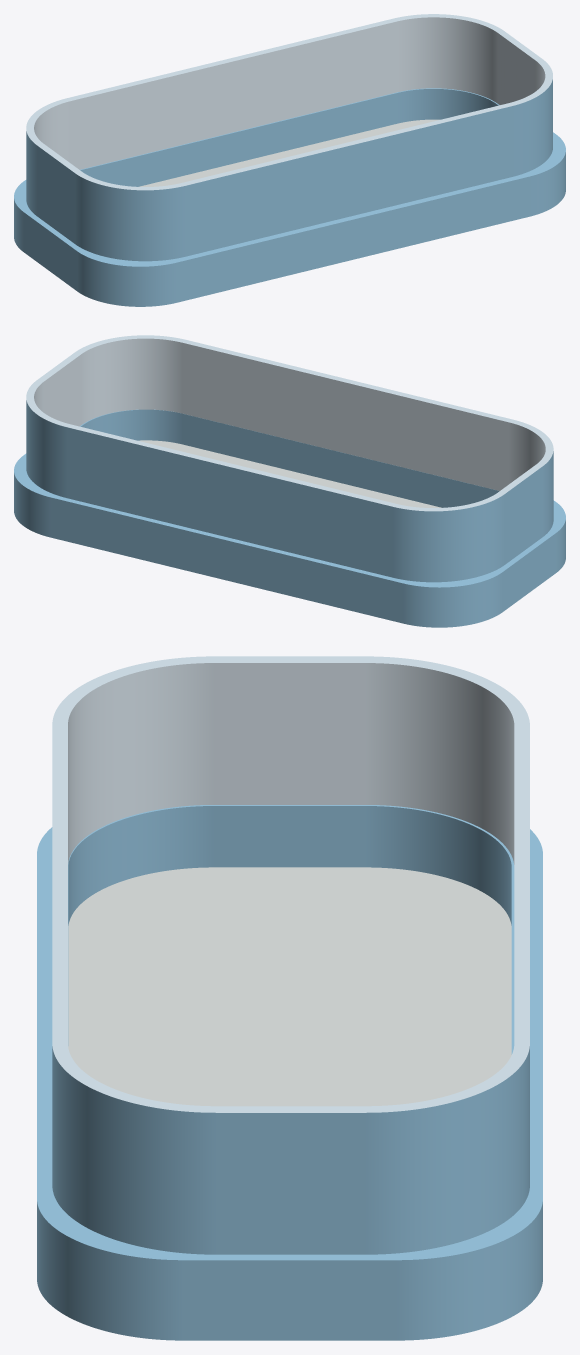
The model's file is rink_base (1).dae.
3 views of the same model, one above another, from view 1: azimuth 30°, elevation 25°; view 2: azimuth 150°, elevation 25°; view 3: azimuth 270°, elevation 25° (orthographic). The views are drawn at different scales.
Parts seen in each view (by area): view 1: ID2; view 2: ID2; view 3: ID2.
Boxes of the visible parts, <box> form: ID2: <box>14,14,565,306</box>; ID2: <box>14,335,565,627</box>; ID2: <box>37,656,542,1340</box>.
Bounding box in the file's own units: 5.38 × 2.46 × 1.19.
